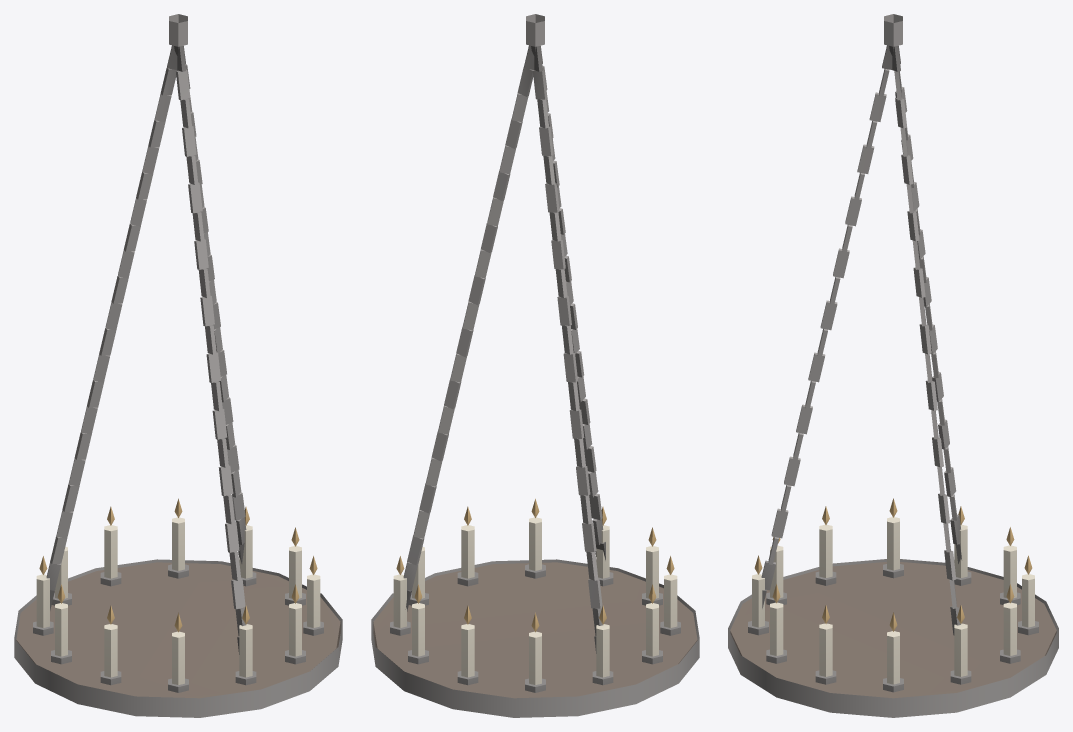
File: kit_chandelier.glb
The picture shows the model from 3 angles, left to right: view 1: azimuth 30°, elevation 25°; view 2: azimuth 150°, elevation 25°; view 3: azimuth 270°, elevation 25°; orthographic projection.
Visible parts, largest first — view 1: kit_chandelier; view 2: kit_chandelier; view 3: kit_chandelier.
Part boxes in pixels (x1,y1,x2,y2): kit_chandelier: (14,14,342,717); kit_chandelier: (371,14,699,717); kit_chandelier: (728,14,1058,717).
Bounding box in the file's own units: 1.52 × 3.19 × 1.52.
